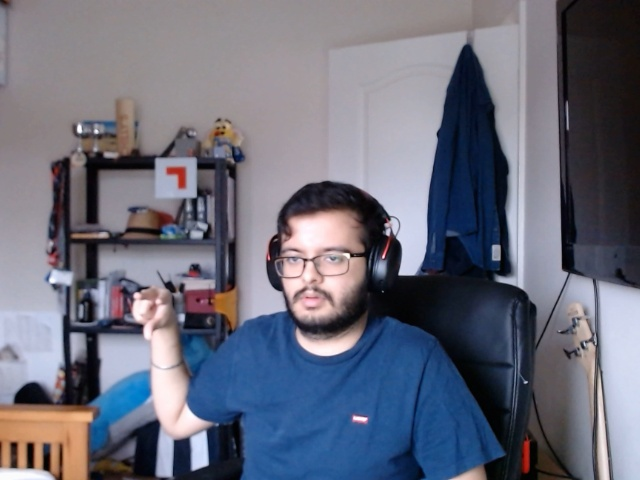No: (120, 284, 181, 348)
